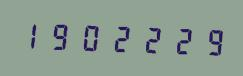nine: (46, 17, 74, 54), (191, 22, 219, 59)
one: (17, 16, 45, 53)
two: (104, 19, 132, 56), (133, 20, 161, 57), (162, 21, 190, 58)
zero: (75, 18, 103, 55)
